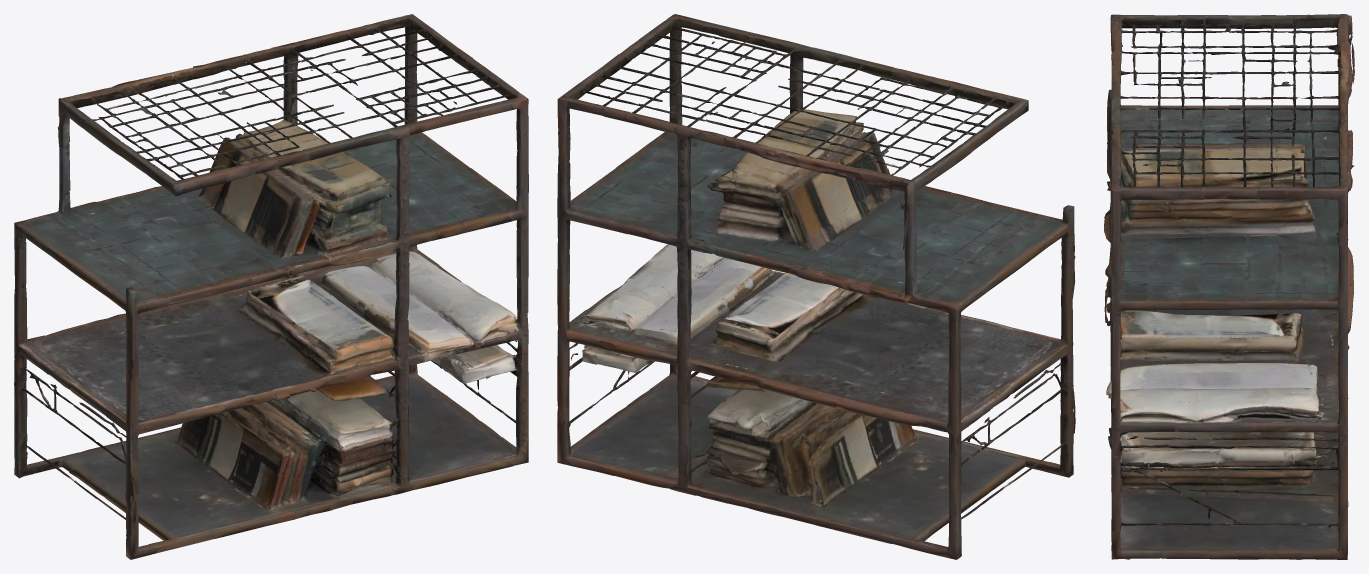
The model's file is bookshelf2.glb.
The picture shows the model from 3 angles, left to right: view 1: azimuth 30°, elevation 25°; view 2: azimuth 150°, elevation 25°; view 3: azimuth 270°, elevation 25°; orthographic projection.
Parts seen in each view (by area): view 1: Mesh_0; view 2: Mesh_0; view 3: Mesh_0.
Part boxes in pixels (x1,y1,x2,y2): Mesh_0: (14, 14, 528, 559); Mesh_0: (557, 14, 1075, 559); Mesh_0: (1104, 14, 1354, 559).
Bounding box in the file's own units: 1.74 × 1.52 × 0.9323.
1 material, 1 textured.
